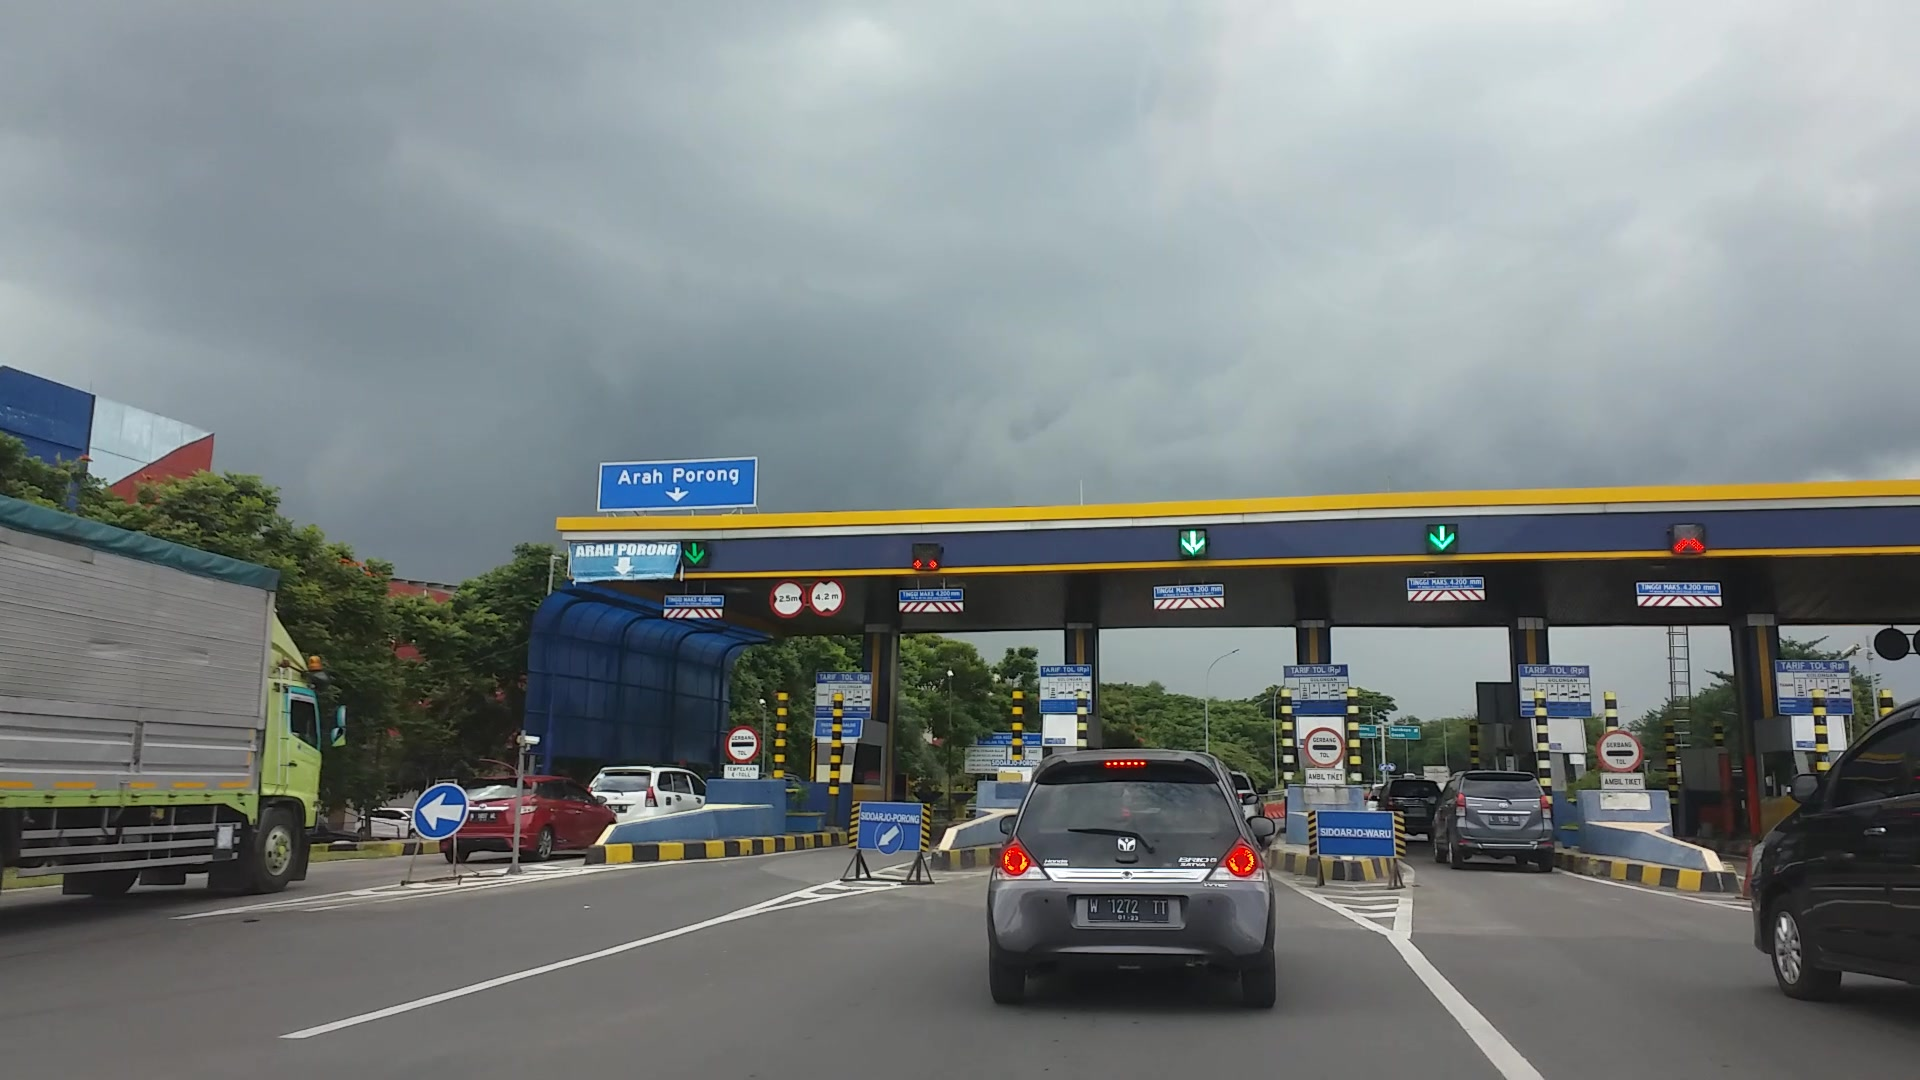plate_positive: (1088, 895, 1168, 922)
